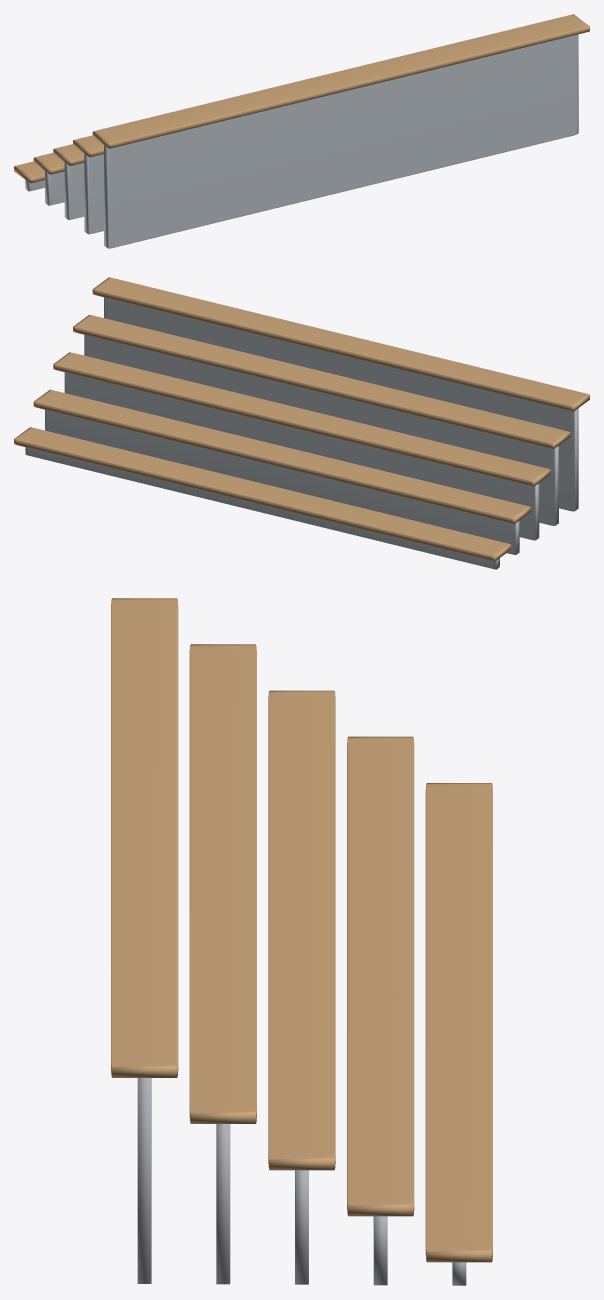
The model's file is SM_Gym_Bleachers.fbx.
3 renders of one model, top to bottom at view 1: azimuth 30°, elevation 25°; view 2: azimuth 150°, elevation 25°; view 3: azimuth 270°, elevation 25°, orthographic. The views are drawn at different scales.
Parts seen in each view (by area): view 1: SM_Gym_Bleachers; view 2: SM_Gym_Bleachers; view 3: SM_Gym_Bleachers.
Part boxes in pixels (x1,y1,x2,y2): SM_Gym_Bleachers: (14, 14, 589, 248); SM_Gym_Bleachers: (14, 277, 589, 569); SM_Gym_Bleachers: (111, 598, 492, 1285).
Bounding box in the file's own units: 9.6 × 2.13 × 3.3.
